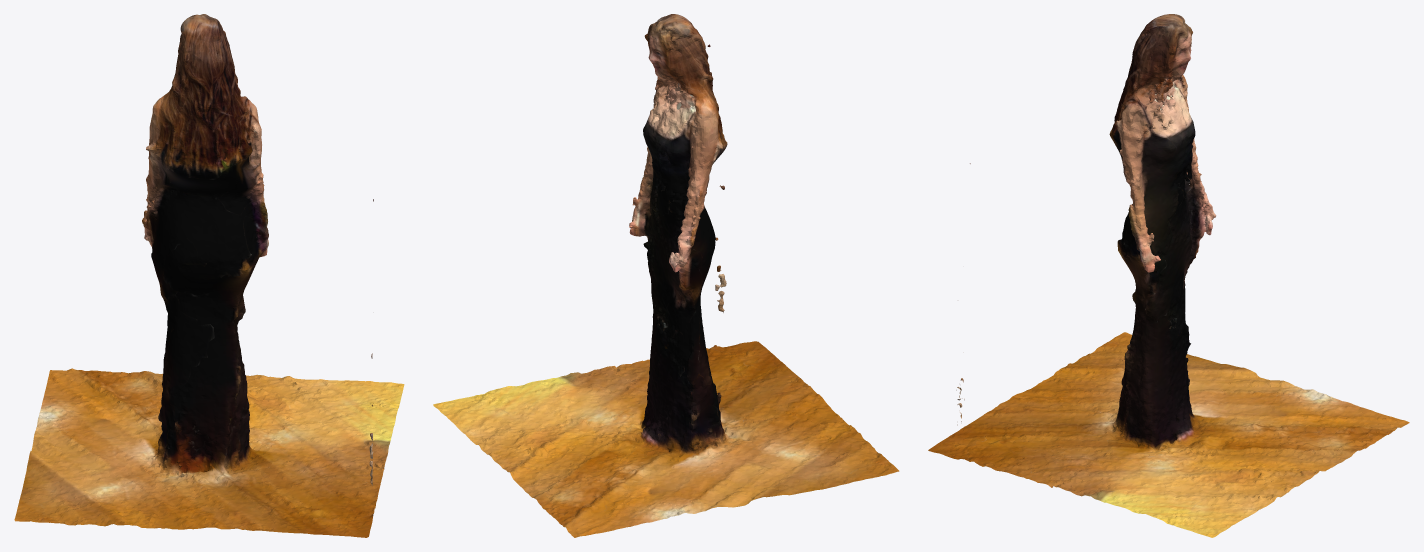
Rendered from mbo_friends_Claudia.glb.
3 renders of one model, left to right at view 1: azimuth 30°, elevation 25°; view 2: azimuth 150°, elevation 25°; view 3: azimuth 270°, elevation 25°, orthographic. The views are drawn at different scales.
Bounding box in the file's own units: 1.78 × 1.72 × 1.79.
1 material, 1 textured.
